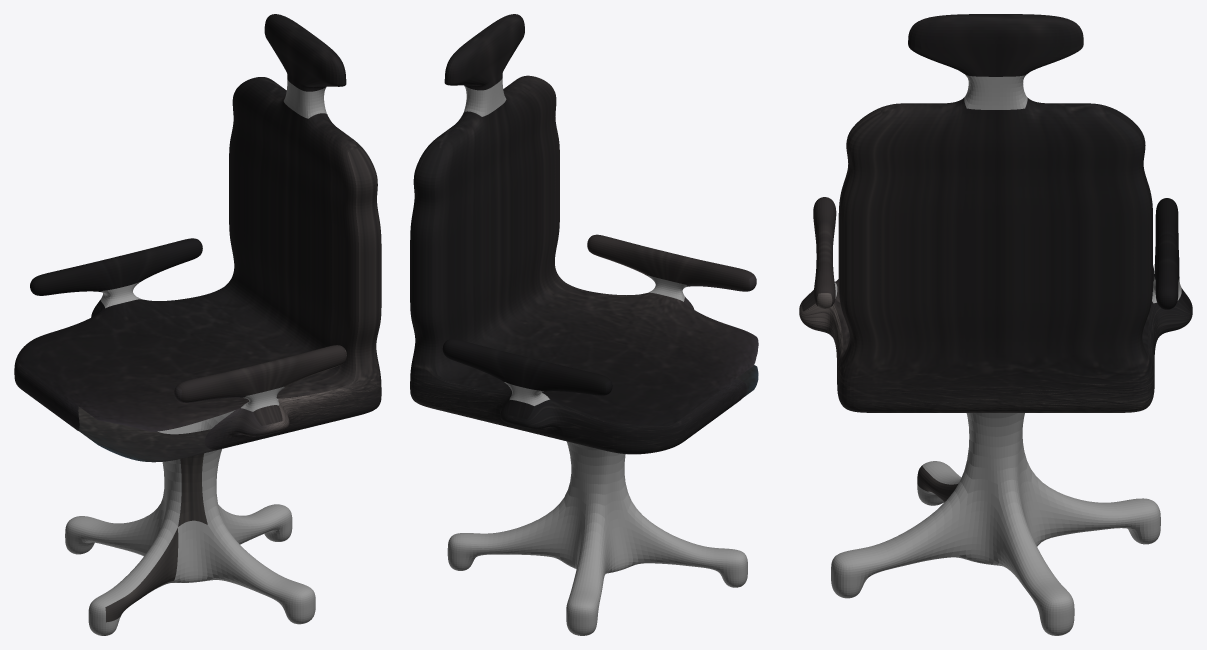
Rendered from office chair1 - 복사본.fbx.
3 views of the same model, side by side, from view 1: azimuth 30°, elevation 25°; view 2: azimuth 150°, elevation 25°; view 3: azimuth 270°, elevation 25° (orthographic). The views are drawn at different scales.
Visible parts, largest first — view 1: Cube; view 2: Cube; view 3: Cube.
Part boxes in pixels (x1,y1,x2,y2): Cube: [14, 14, 381, 635]; Cube: [410, 14, 758, 635]; Cube: [799, 14, 1192, 635].
Size of the model in its own units: 580 by 1112 by 640.
